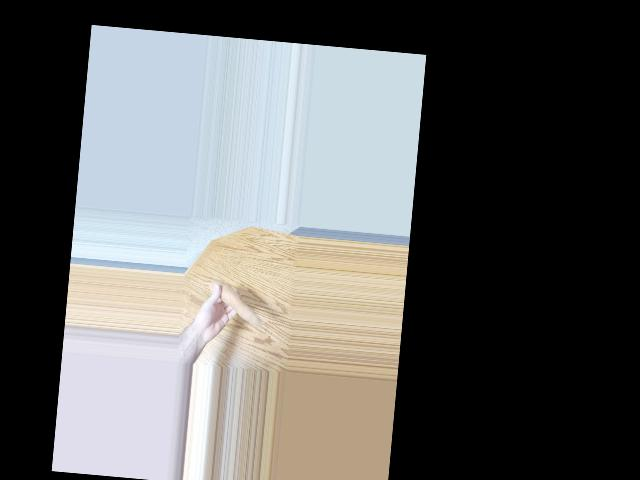sweet_potato: (206, 281, 264, 329)
